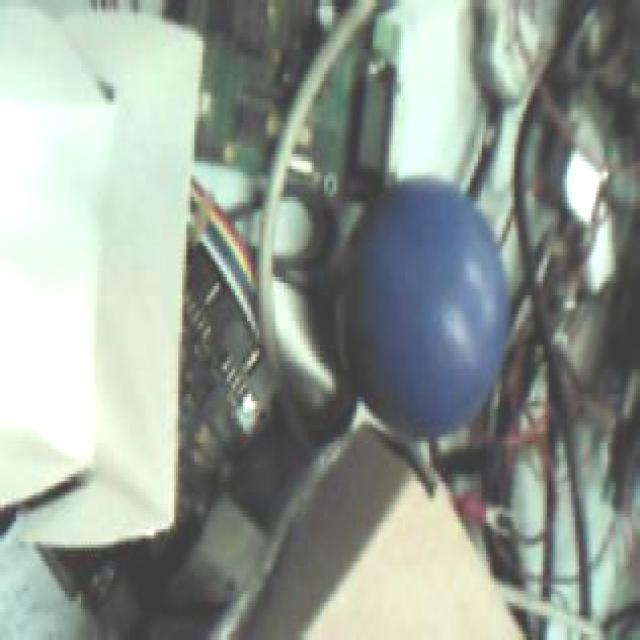BallPurple: (346, 173, 508, 437)
